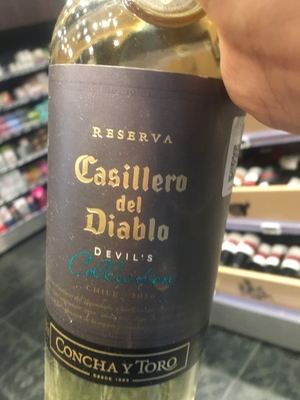casillero del diablo devils collection verde: (36, 8, 243, 400)
